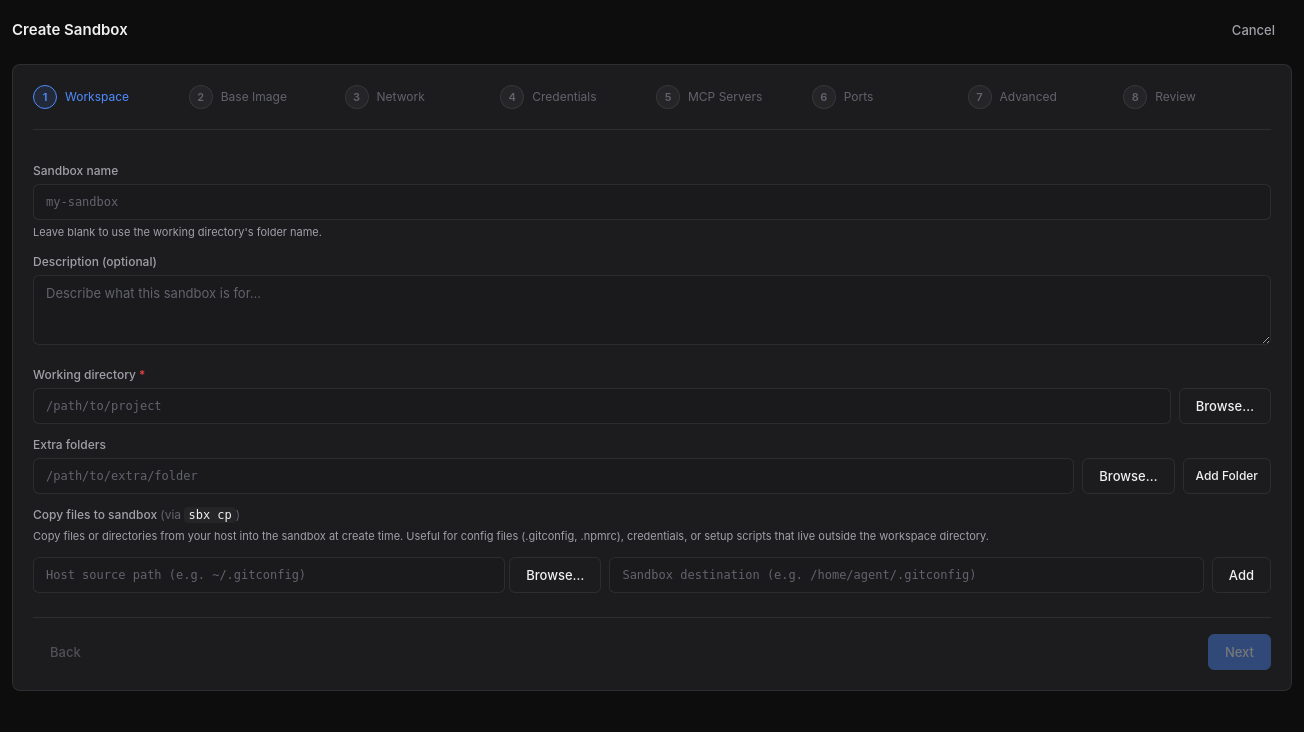
Test: CreateDefinition wizard › disables Next on step 1 until a working directory is entered
expect the button "Next" is disabled: met, box x1=1208 y1=634 x2=1271 y2=670
In the field named "workspace": point(602, 406) x1=33 y1=388 x2=1171 y2=424, type "/home/u/alpha"
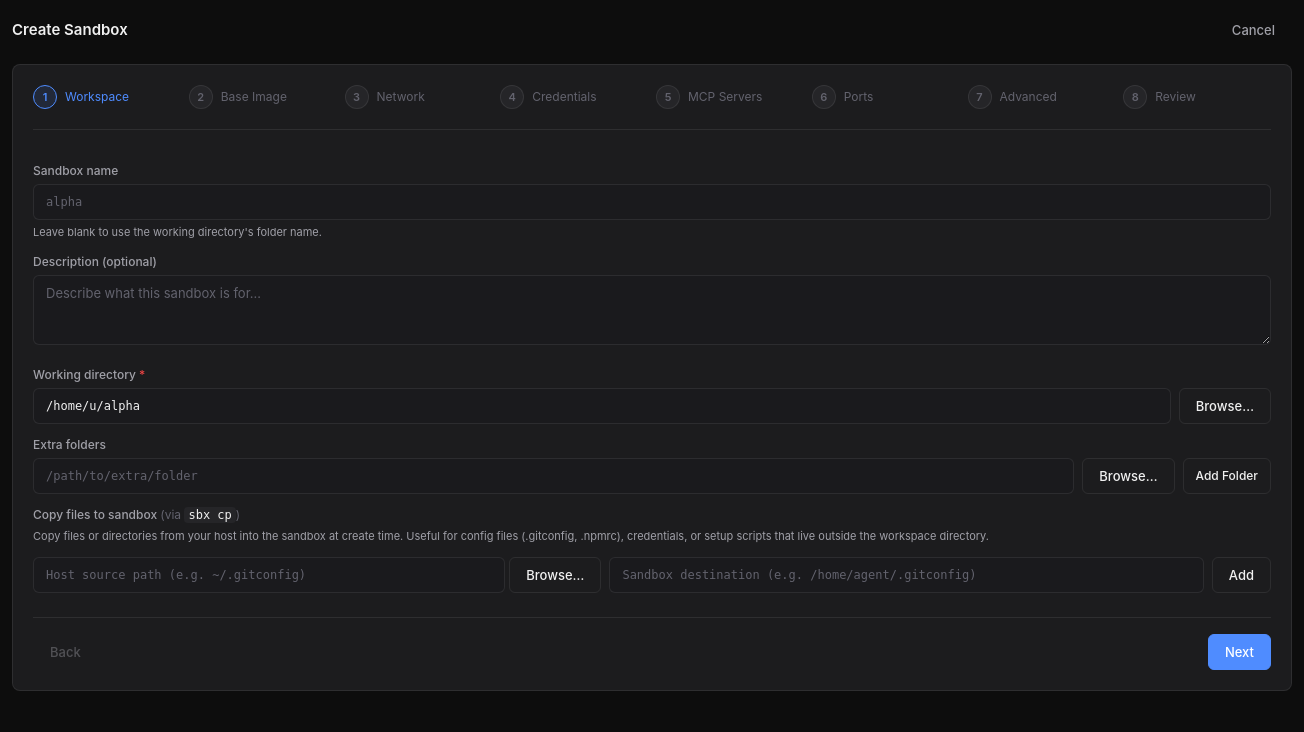
expect the button "Next" is enabled: met, box x1=1208 y1=634 x2=1271 y2=670
